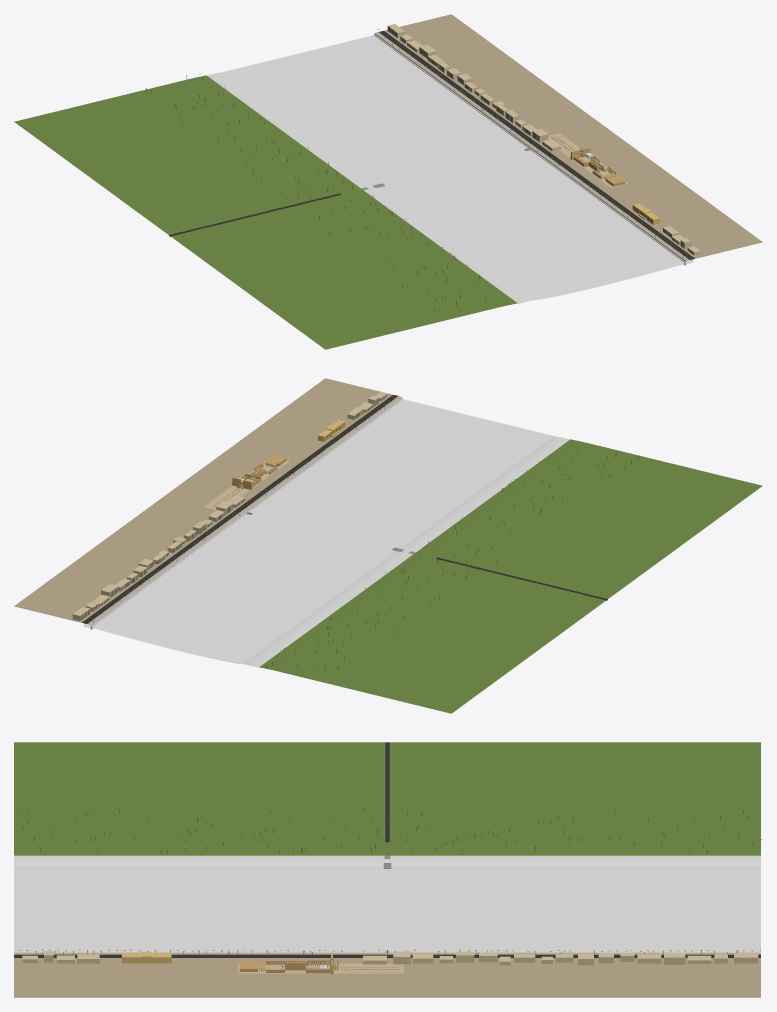
The model's file is luxor_nile.glb.
3 renders of one model, top to bottom at view 1: azimuth 30°, elevation 25°; view 2: azimuth 150°, elevation 25°; view 3: azimuth 270°, elevation 25°, orthographic. The views are drawn at different scales.
Parts seen in each view (by area): view 1: west_bank, deco_water, east_ground, riverbed, town_front, corniche_road, corniche_wall, promenade, temple_ground, luxor_temple; view 2: west_bank, deco_water, east_ground, riverbed, town_front, corniche_road, corniche_wall, promenade, temple_ground, luxor_temple; view 3: west_bank, deco_water, east_ground, riverbed, town_front, promenade, corniche_road, temple_ground, luxor_temple, deco_palm_fronds, parapet, winter_palace (+1 smaller).
Part boxes in pixels (bbox=[...]): west_bank: bbox=[14, 75, 517, 349]; deco_water: bbox=[223, 35, 693, 303]; east_ground: bbox=[384, 14, 762, 258]; riverbed: bbox=[207, 72, 693, 303]; town_front: bbox=[387, 24, 700, 255]; corniche_road: bbox=[379, 31, 694, 259]; corniche_wall: bbox=[374, 33, 686, 265]; promenade: bbox=[375, 32, 689, 260]; temple_ground: bbox=[548, 133, 628, 187]; luxor_temple: bbox=[570, 147, 625, 186]; west_bank: bbox=[259, 439, 762, 713]; deco_water: bbox=[83, 399, 553, 667]; east_ground: bbox=[14, 378, 392, 622]; riverbed: bbox=[83, 436, 569, 667]; town_front: bbox=[72, 392, 387, 620]; corniche_road: bbox=[82, 395, 397, 623]; corniche_wall: bbox=[90, 397, 402, 629]; promenade: bbox=[87, 396, 401, 624]; temple_ground: bbox=[203, 456, 289, 509]; luxor_temple: bbox=[232, 455, 286, 489]; west_bank: bbox=[14, 742, 760, 855]; deco_water: bbox=[14, 866, 760, 952]; east_ground: bbox=[14, 958, 760, 997]; riverbed: bbox=[14, 855, 760, 865]; town_front: bbox=[22, 951, 758, 965]; promenade: bbox=[14, 952, 760, 954]; corniche_road: bbox=[14, 954, 760, 957]; temple_ground: bbox=[238, 963, 403, 973]; luxor_temple: bbox=[239, 954, 338, 974]; deco_palm_fronds: bbox=[18, 808, 762, 951]; parapet: bbox=[14, 952, 760, 952]; winter_palace: bbox=[122, 952, 171, 963].
Bounding box in the file's own units: 1460 × 44.2 × 1805.
